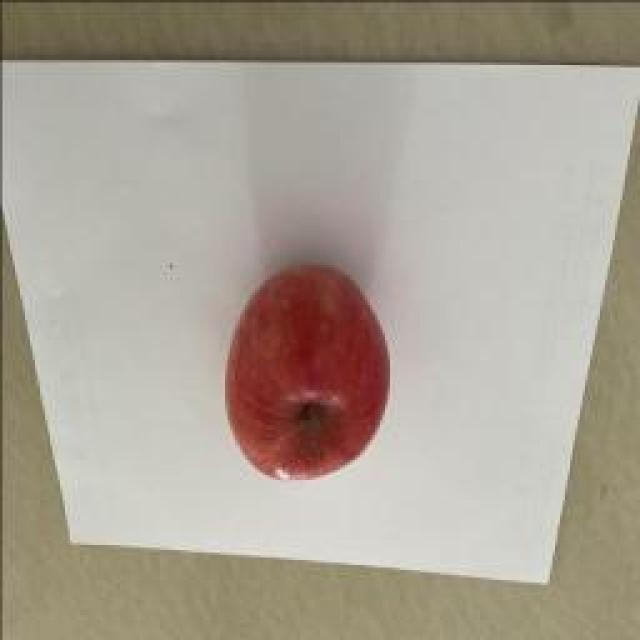apple: (226, 266, 389, 478)
